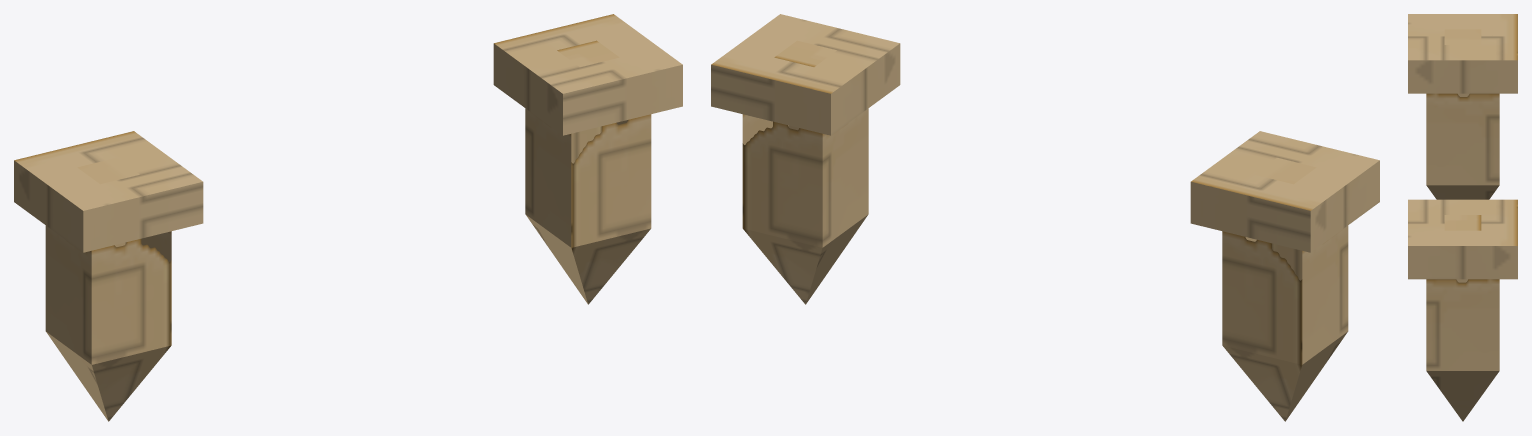
File: manaweaving_altar_pedestal02.obj
3 views of the same model, side by side, from view 1: azimuth 30°, elevation 25°; view 2: azimuth 150°, elevation 25°; view 3: azimuth 270°, elevation 25° (orthographic). The views are drawn at different scales.
Parts seen in each view (by area): view 1: SHAPE_PEDISTAL_MID_Cube.010; view 2: SHAPE_PEDISTAL_MID_Cube.010; view 3: SHAPE_PEDISTAL_MID_Cube.010.
Boxes of the visible parts, x1=… form: SHAPE_PEDISTAL_MID_Cube.010: x1=14, y1=14, x2=682, y2=421; SHAPE_PEDISTAL_MID_Cube.010: x1=711, y1=14, x2=1379, y2=421; SHAPE_PEDISTAL_MID_Cube.010: x1=1408, y1=14, x2=1517, y2=421.
Bounding box in the file's own units: 0.9375 × 0.375 × 0.1875.
